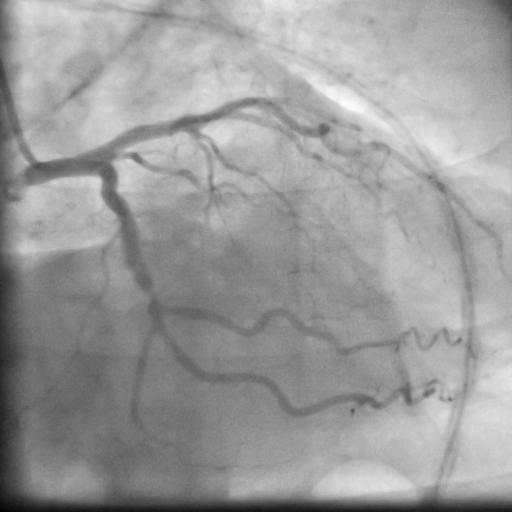Stenosis: (142, 287, 161, 301)
